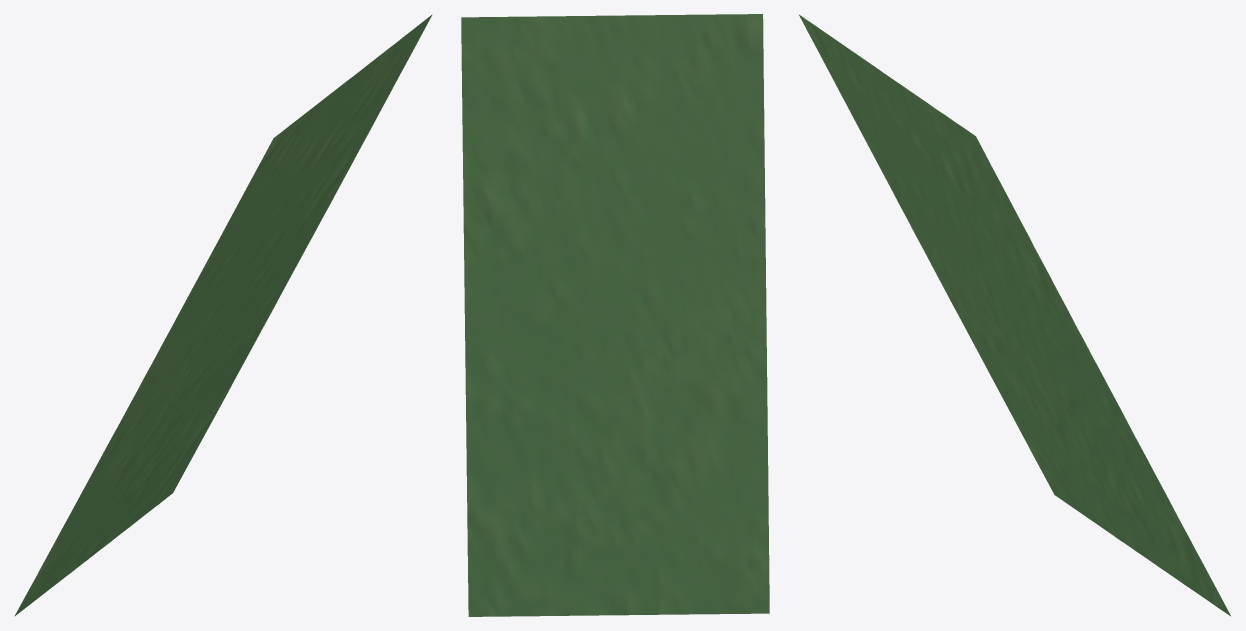
The picture shows the model from 3 angles, left to right: view 1: azimuth 30°, elevation 25°; view 2: azimuth 150°, elevation 25°; view 3: azimuth 270°, elevation 25°; orthographic projection. The views are drawn at different scales.
Size of the model in its own units: 19702 by 26677 by 19136.
